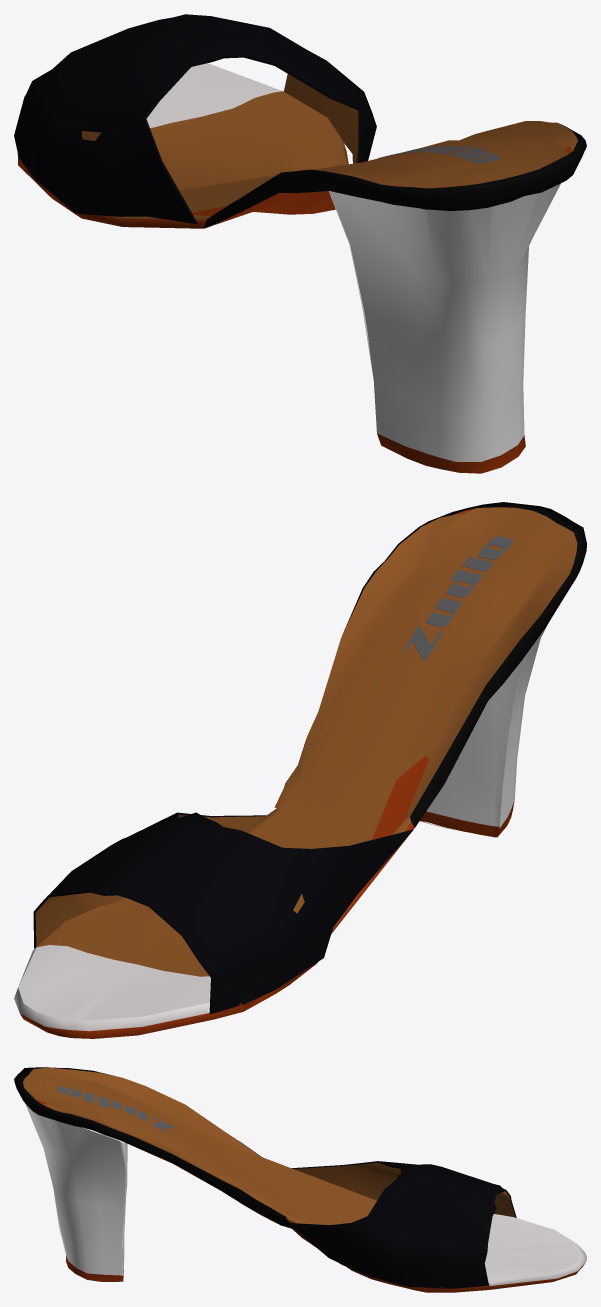
The model's file is sandal_object.obj.
3 renders of one model, top to bottom at view 1: azimuth 30°, elevation 25°; view 2: azimuth 150°, elevation 25°; view 3: azimuth 270°, elevation 25°, orthographic. The views are drawn at different scales.
Parts seen in each view (by area): view 1: pCylinder2; view 2: pCylinder2; view 3: pCylinder2.
Part boxes in pixels (left/top/right/bottom): pCylinder2: left=14, top=14, right=586, bottom=473; pCylinder2: left=14, top=502, right=586, bottom=1038; pCylinder2: left=14, top=1067, right=586, bottom=1292.
Bounding box in the file's own units: 1.79 × 1.87 × 5.37.
